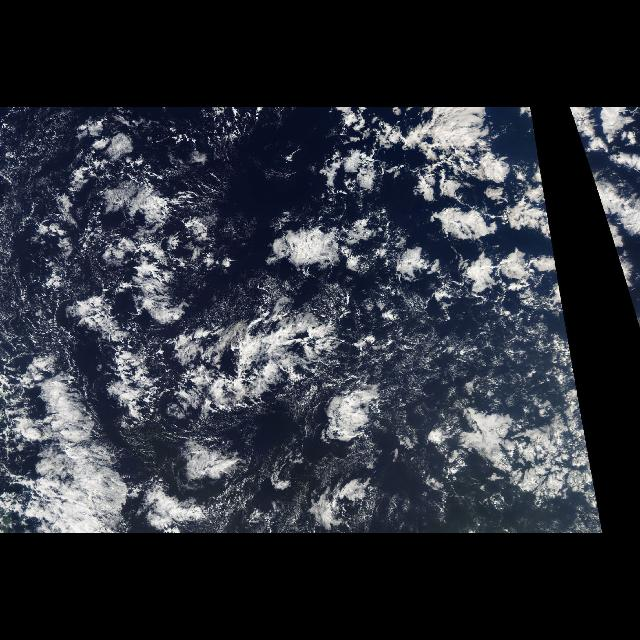Flower: (256, 128, 566, 312), (576, 128, 640, 312)
